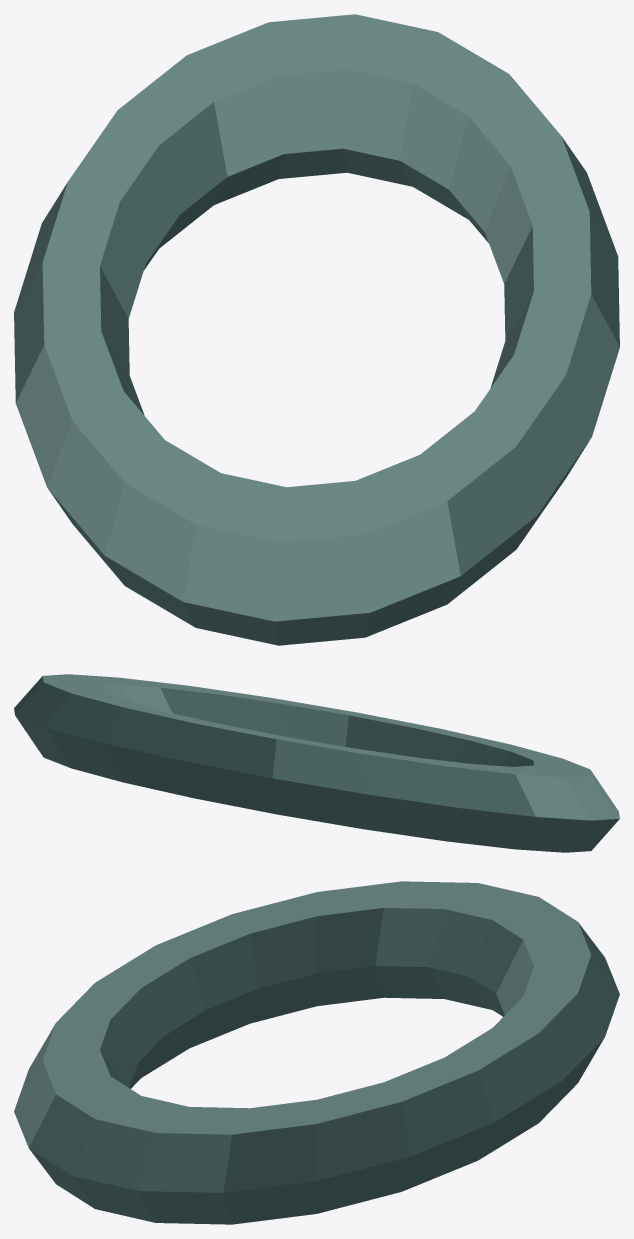
Rendered from Checkpoint_RingIdle.gltf.
3 views of the same model, one above another, from view 1: azimuth 30°, elevation 25°; view 2: azimuth 150°, elevation 25°; view 3: azimuth 270°, elevation 25° (orthographic). The views are drawn at different scales.
Visible parts, largest first — view 1: Checkpoint_RingIdle_baked; view 2: Checkpoint_RingIdle_baked; view 3: Checkpoint_RingIdle_baked.
Part boxes in pixels (box(x1,y1,x2,y2)): Checkpoint_RingIdle_baked: box(14, 14, 619, 645); Checkpoint_RingIdle_baked: box(14, 674, 619, 852); Checkpoint_RingIdle_baked: box(14, 881, 619, 1224).
Size of the model in its own units: 0.3976 by 0.1946 by 0.37.
